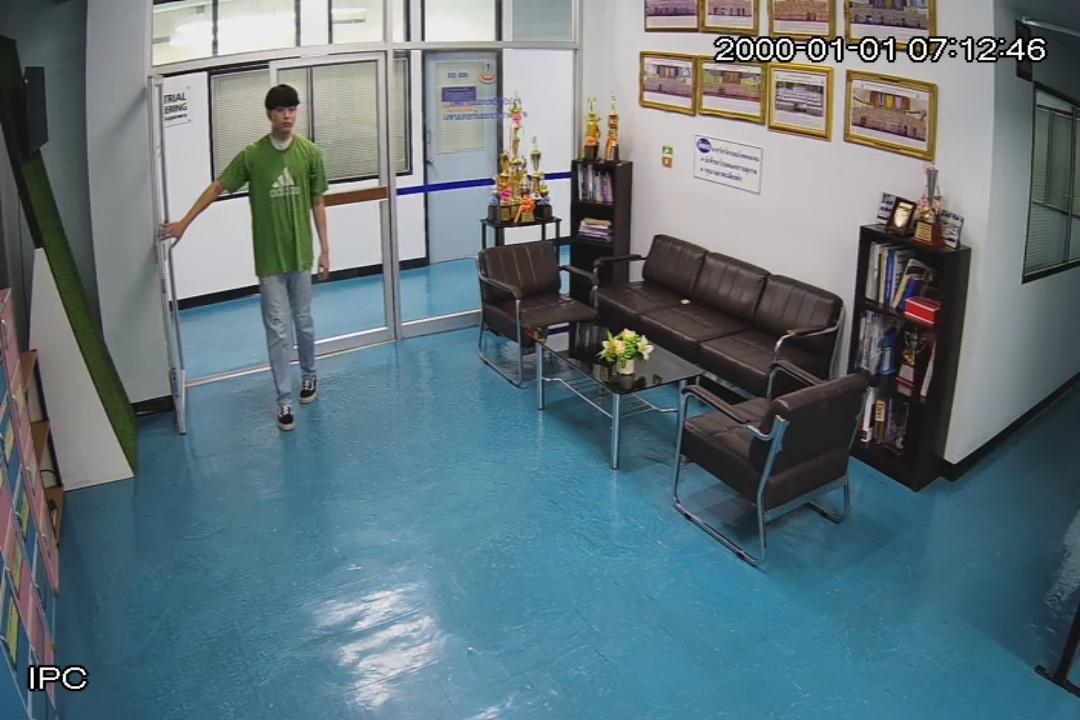normal: (158, 79, 336, 428)
